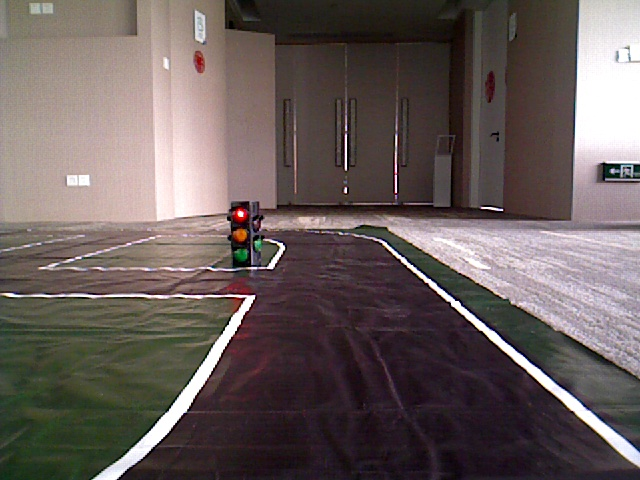red: (233, 205, 251, 263)
